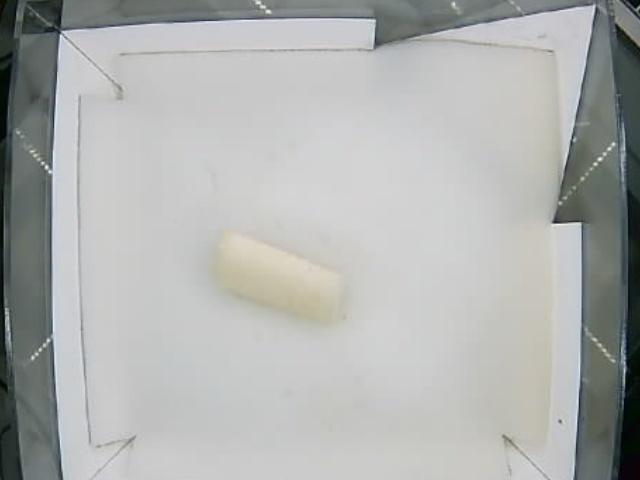Mooli: (217, 230, 342, 319)
